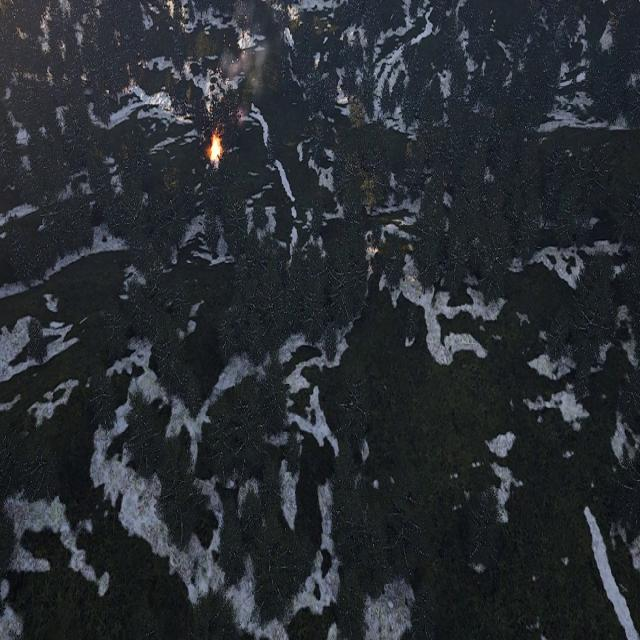fire: (238, 28, 253, 52), (210, 136, 222, 160)
smoke: (220, 0, 276, 95)
